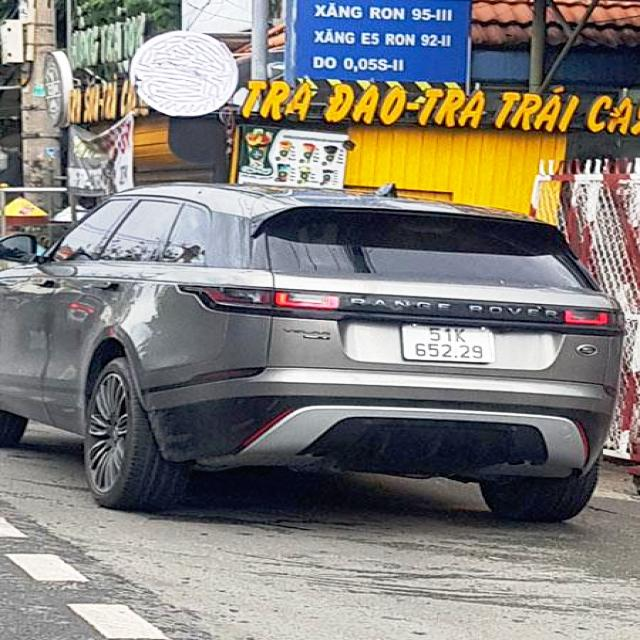license_plate: (401, 323, 503, 367)
